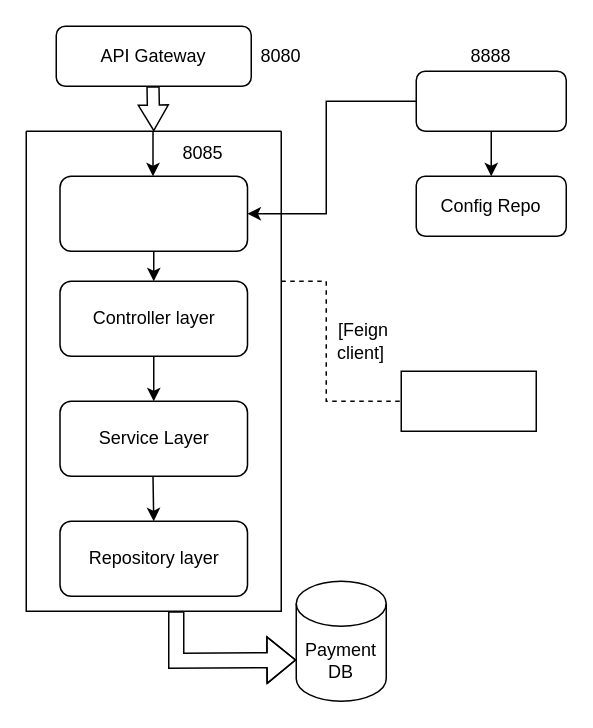
Image size: 593x728. Some labels were removed from this diagram. Here are the shapes that lost their labels. From the top down, the box of each, then its label:
(415, 70, 566, 131): Config Server
(58, 175, 248, 251): Payment Service
(400, 370, 536, 431): Ride service
